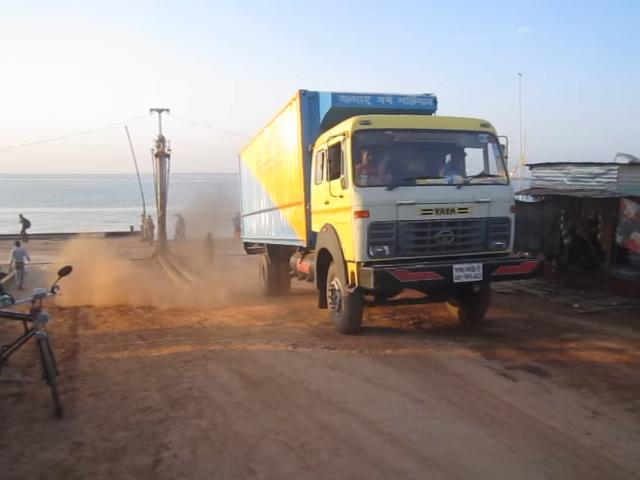truck: (232, 81, 516, 347)
